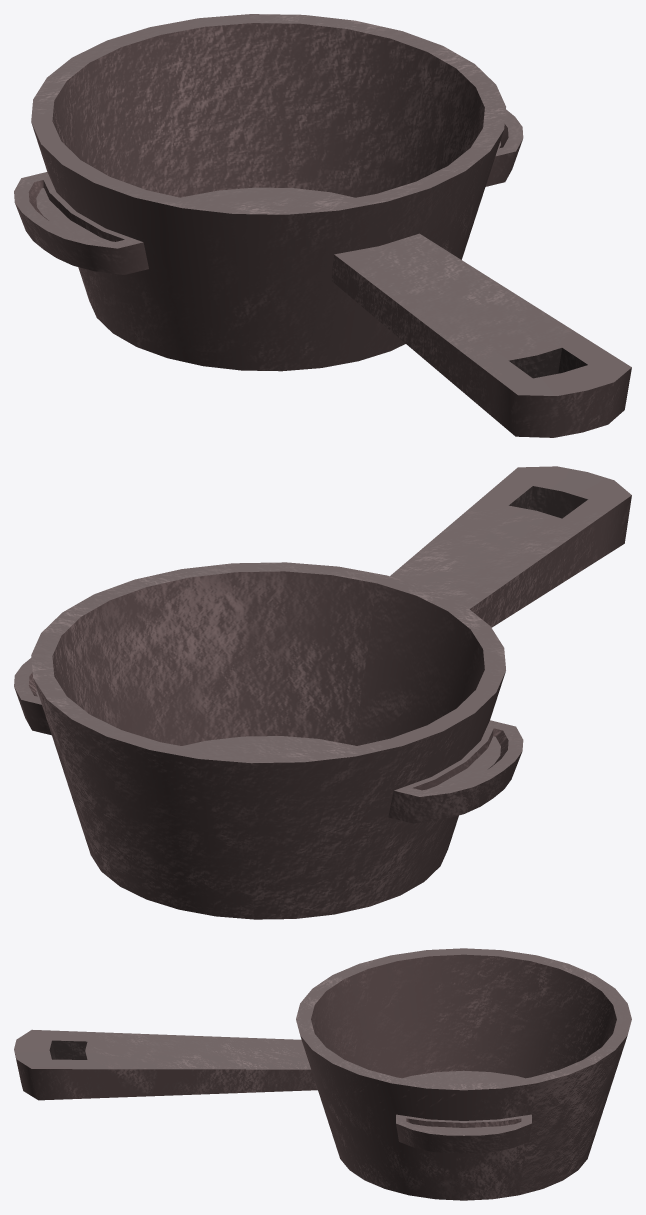
The model's file is 손잡이 냄비.fbx.
3 renders of one model, top to bottom at view 1: azimuth 30°, elevation 25°; view 2: azimuth 150°, elevation 25°; view 3: azimuth 270°, elevation 25°, orthographic. The views are drawn at different scales.
Parts seen in each view (by area): view 1: 손잡이 냄비; view 2: 손잡이 냄비; view 3: 손잡이 냄비.
Boxes of the visible parts, x1,y1,x2,y2 form: 손잡이 냄비: [14, 14, 631, 437]; 손잡이 냄비: [14, 466, 631, 919]; 손잡이 냄비: [14, 948, 631, 1200].
Size of the model in its own units: 263 by 96.55 by 423.
1 material, 1 textured.
